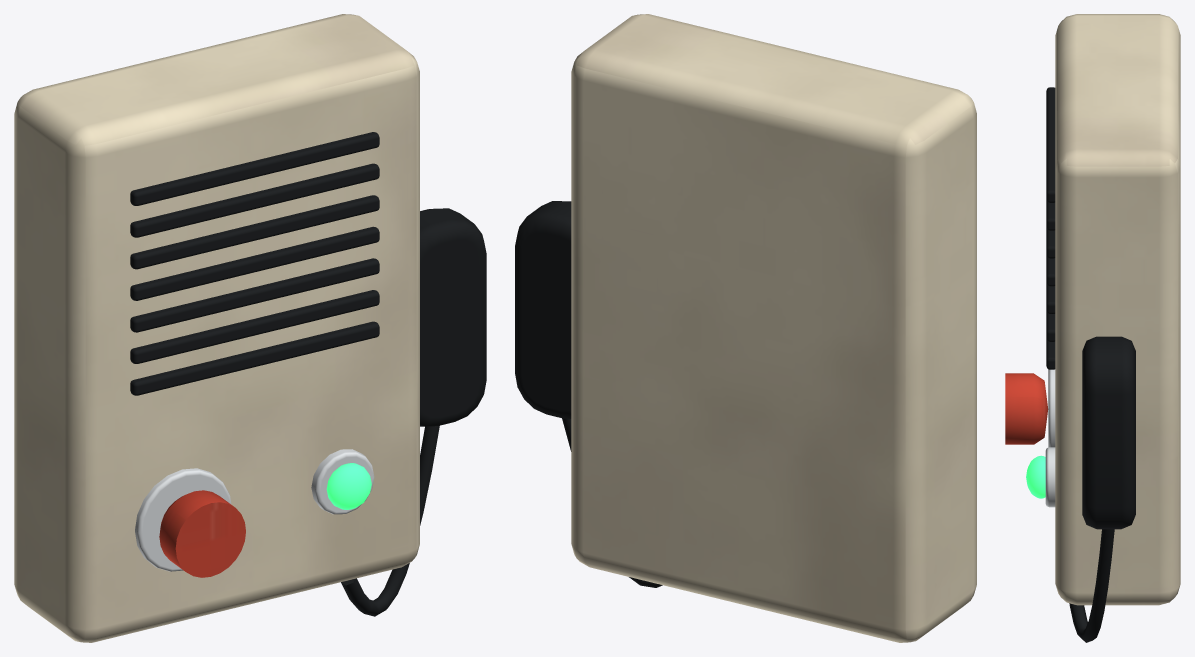
The model's file is Intercom.glb.
3 views of the same model, side by side, from view 1: azimuth 30°, elevation 25°; view 2: azimuth 150°, elevation 25°; view 3: azimuth 270°, elevation 25° (orthographic). The views are drawn at different scales.
Visible parts, largest first — view 1: Intercom_Body, Intercom_TalkButton; view 2: Intercom_Body; view 3: Intercom_Body, Intercom_TalkButton.
Boxes of the visible parts, x1,y1,x2,y2 form: Intercom_Body: (14,14,486,642); Intercom_TalkButton: (159,490,245,577); Intercom_Body: (515,14,976,642); Intercom_Body: (1026,14,1180,642); Intercom_TalkButton: (1005,373,1048,444).
Bounding box in the file's own units: 0.245 × 0.3062 × 0.098.
Materials: 5 (2 with a texture image).
